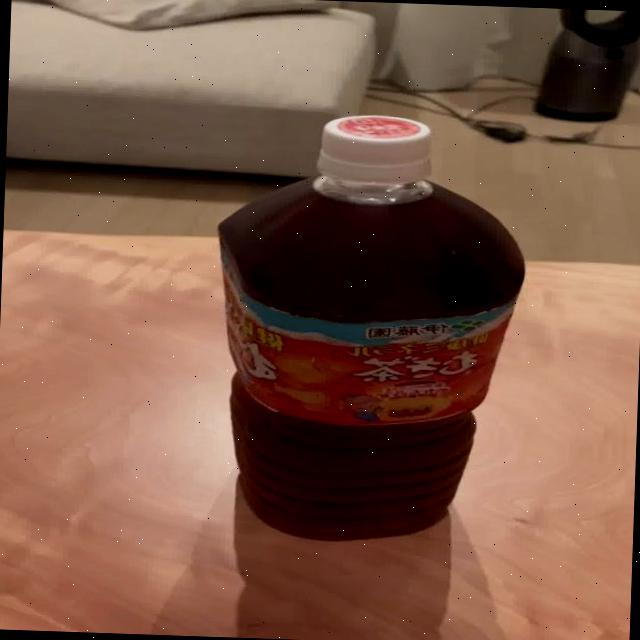bottle: (208, 110, 531, 544)
cap: (309, 109, 442, 200)
label: (219, 282, 526, 430)
